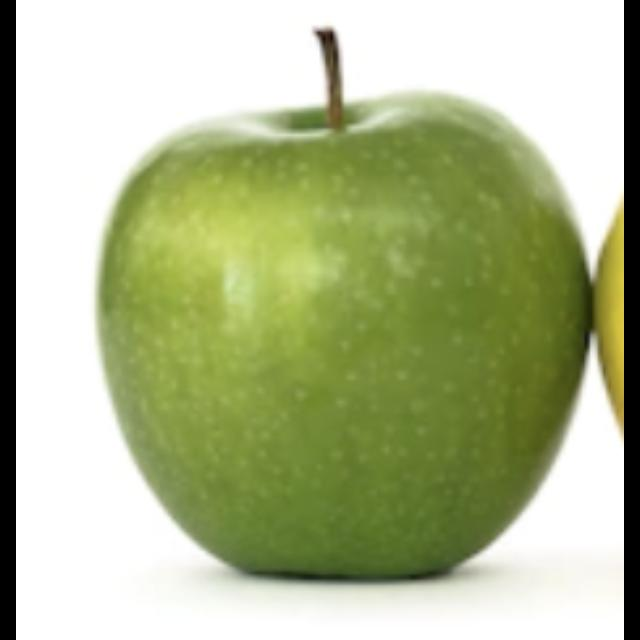Apel Segar: (97, 88, 598, 584)
